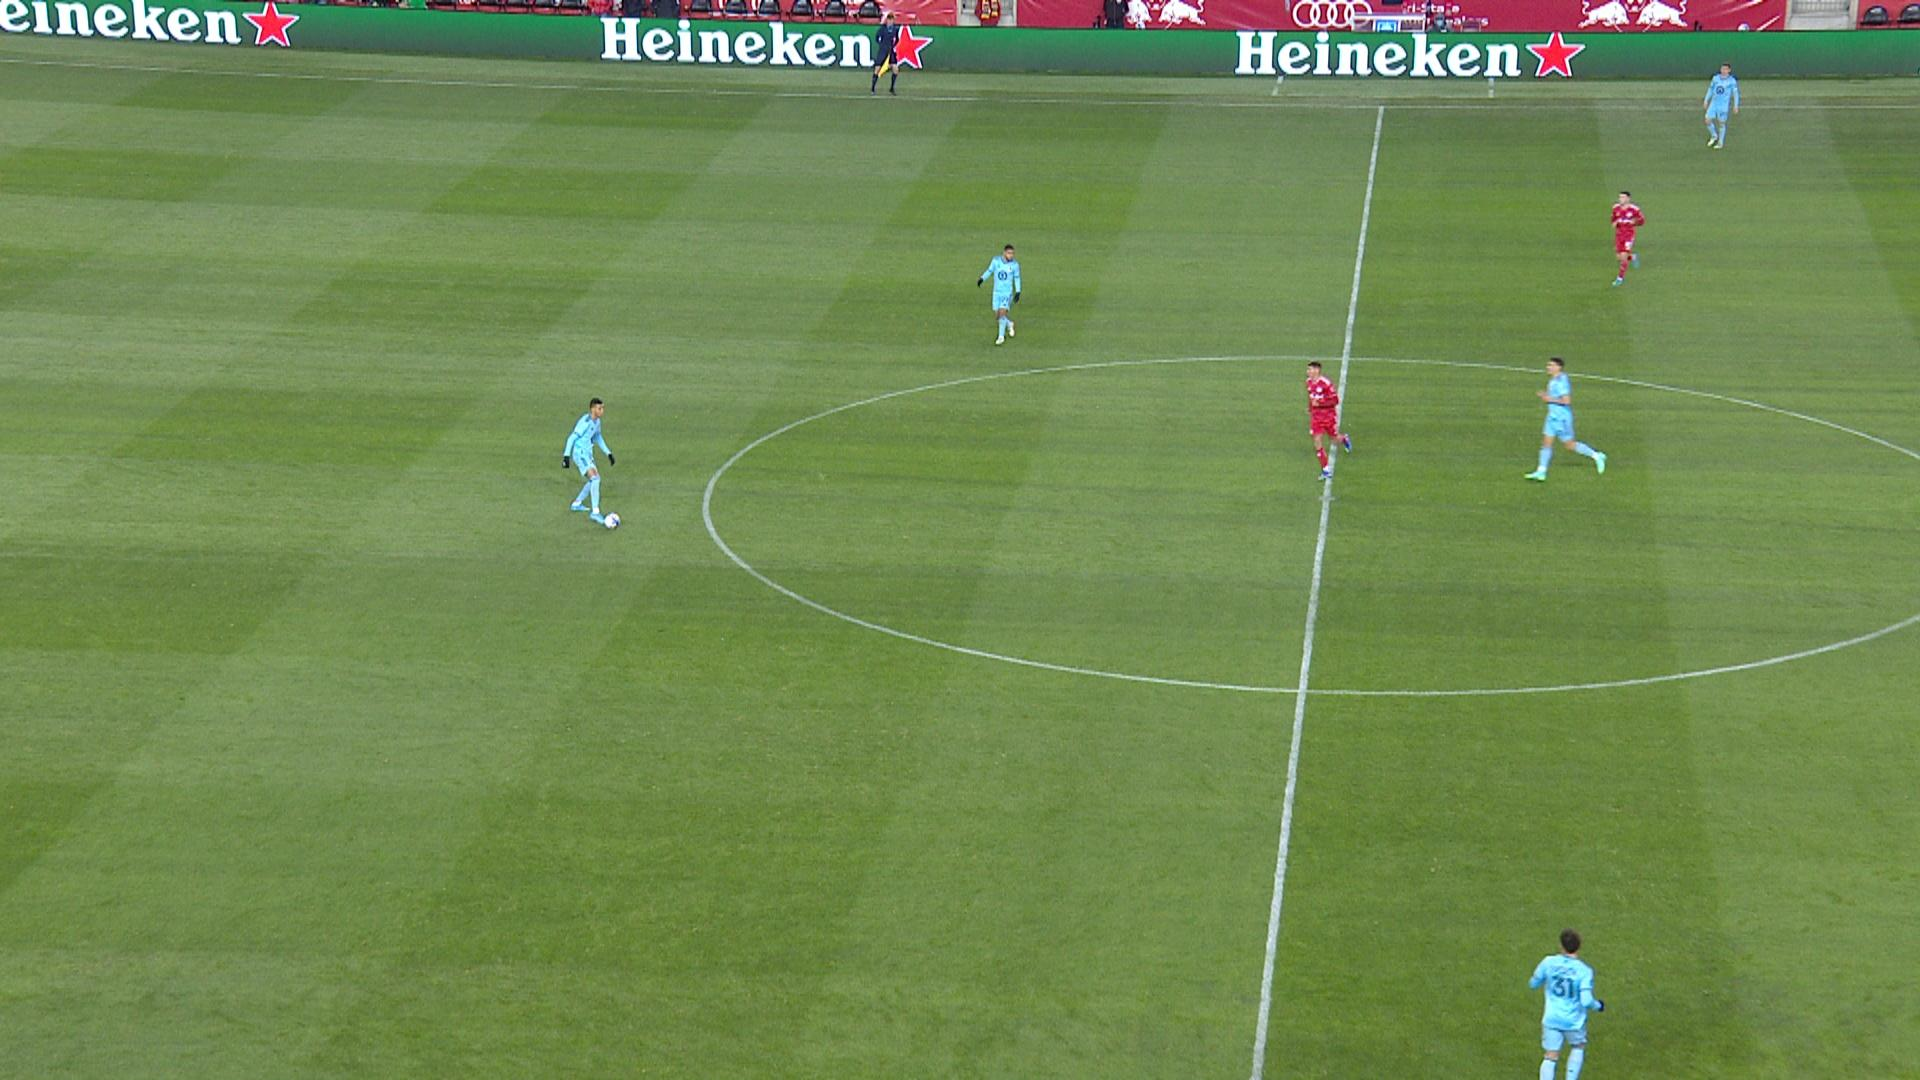football: (605, 512, 621, 529)
